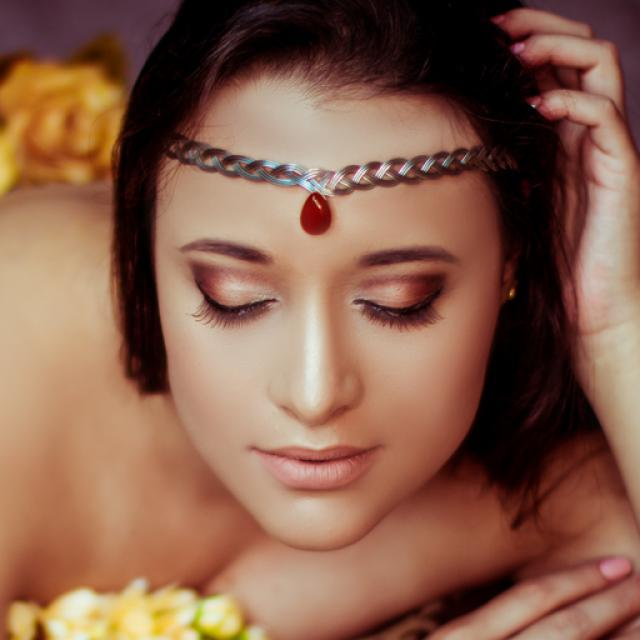neutral: (158, 48, 502, 550)
